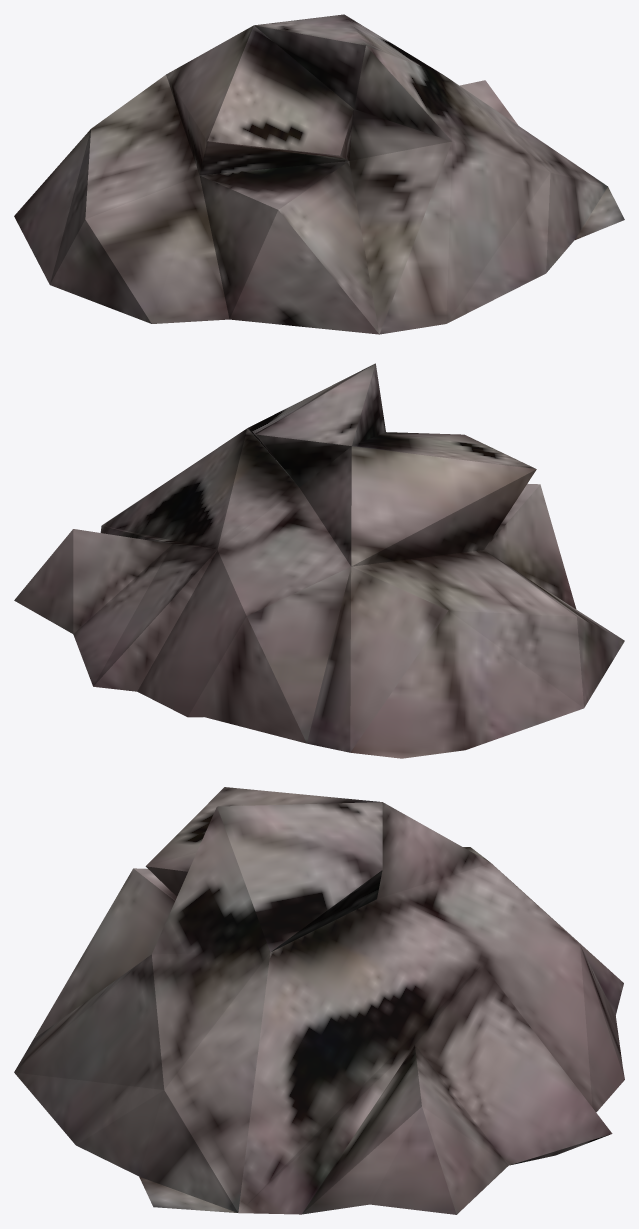
The model's file is granite_chaos_lod2.glb.
3 views of the same model, one above another, from view 1: azimuth 30°, elevation 25°; view 2: azimuth 150°, elevation 25°; view 3: azimuth 270°, elevation 25° (orthographic). The views are drawn at different scales.
Visible parts, largest first — view 1: granite_chaos_lod2; view 2: granite_chaos_lod2; view 3: granite_chaos_lod2.
Boxes of the visible parts, x1,y1,x2,y2 form: granite_chaos_lod2: (14,14,624,334); granite_chaos_lod2: (14,363,624,758); granite_chaos_lod2: (14,787,624,1214).
Bounding box in the file's own units: 0.9854 × 0.409 × 0.836.
1 material, 1 textured.
